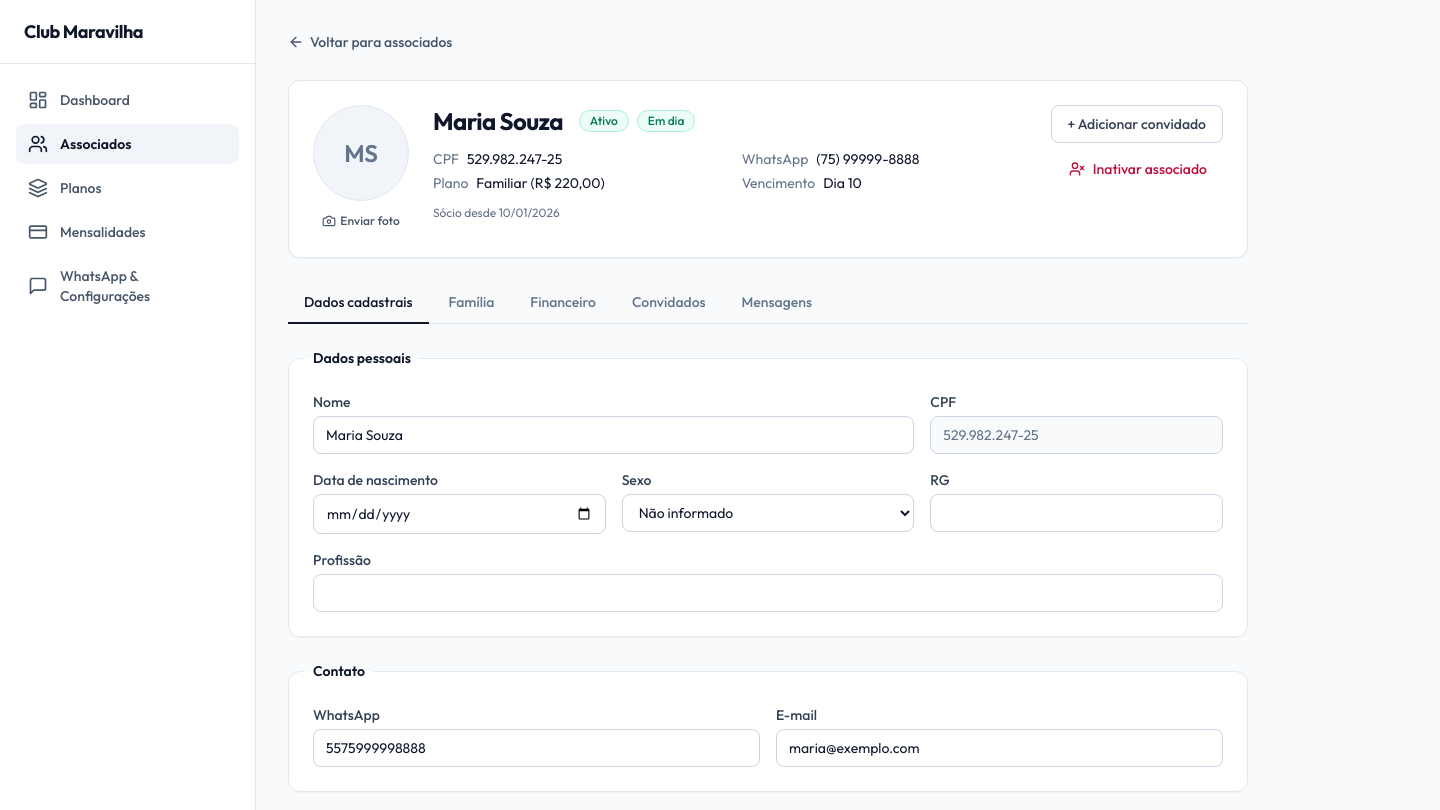
Test: FichaAssociadoPage - histórico › convidados e mensagens do sócio
Click the tab "Convidados" at (669, 303), box [616,282,722,324]
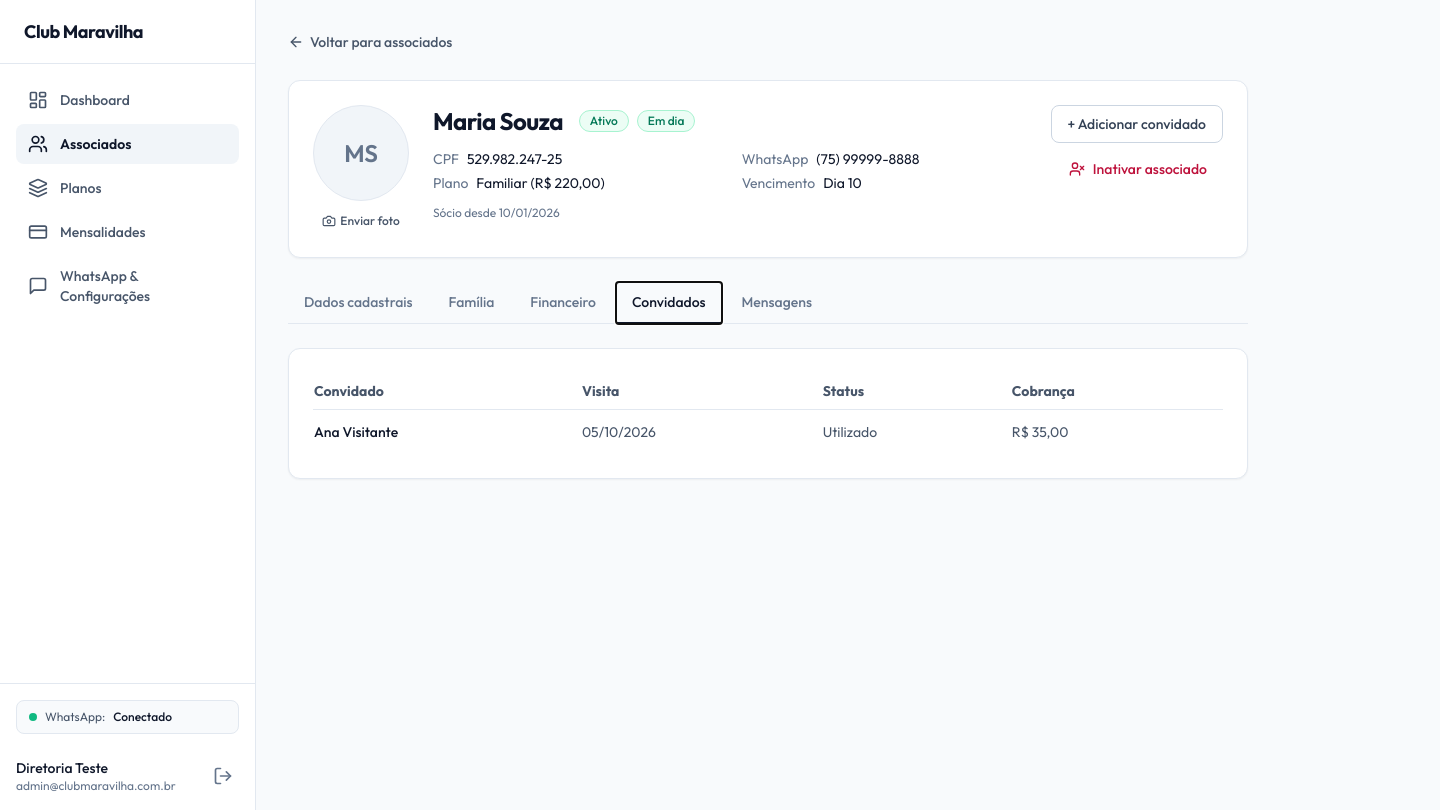
expect the row "Ana Visitante 05/10/2026 Utilizado R$ 35,00" is shown: met, box [313,410,1223,454]
Click the tab "Mensagens" at (777, 303), box [726,282,828,324]
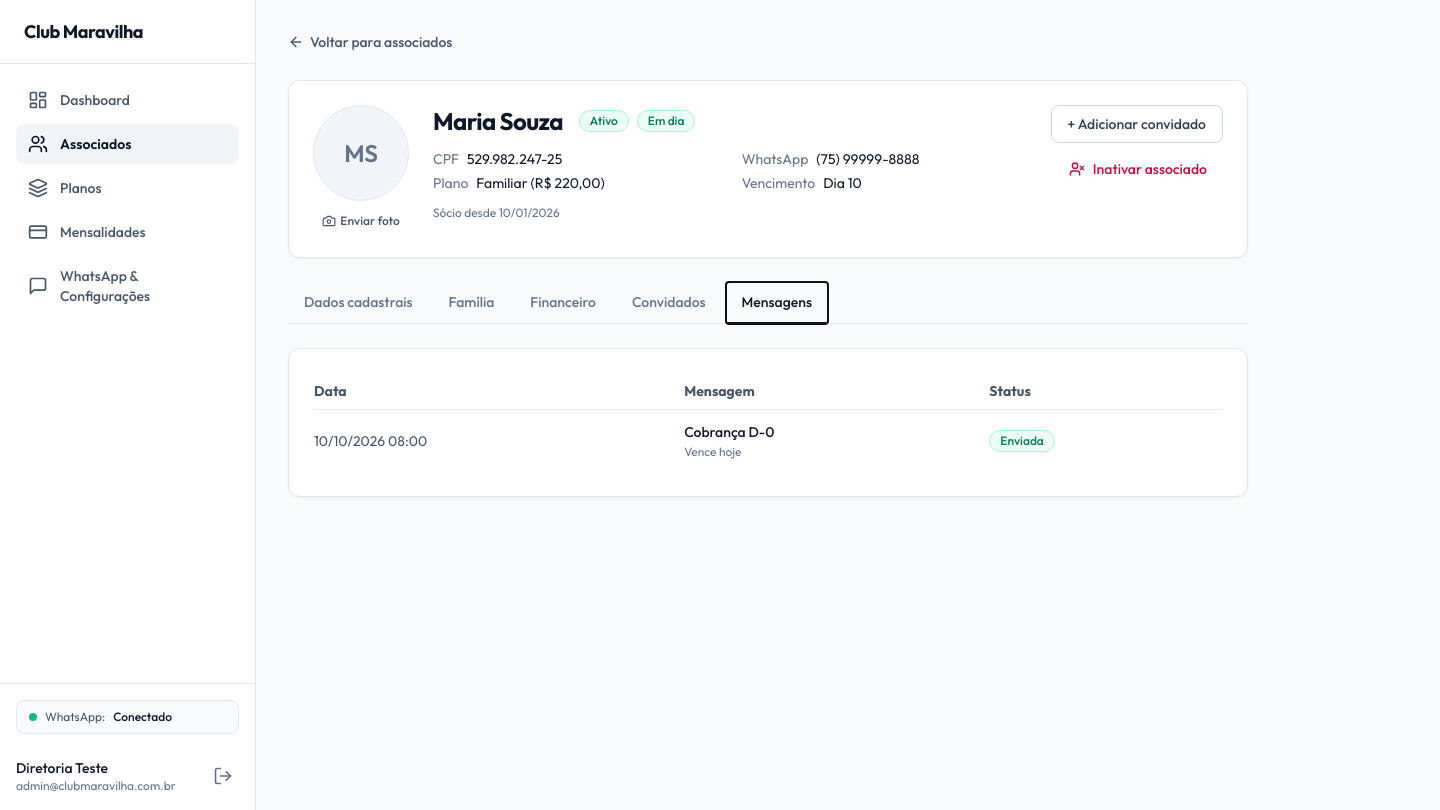
expect the row "10/10/2026 08:00 Cobrança D-0 Vence hoje Enviada" is shown: met, box [313,410,1223,472]
